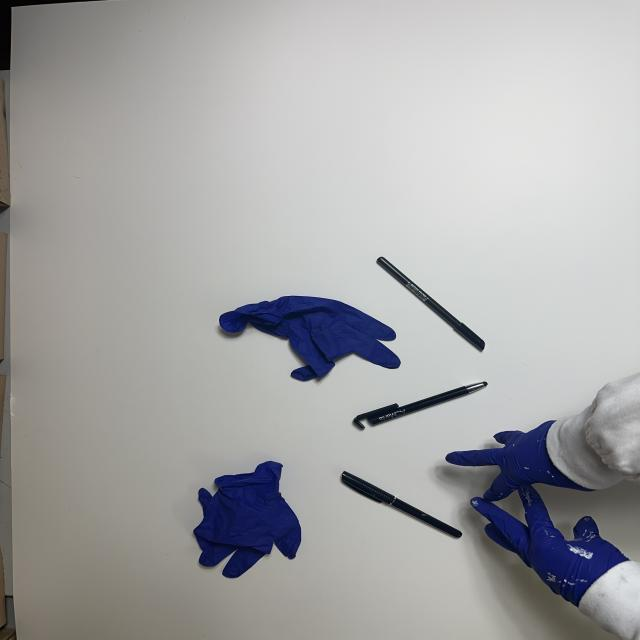gloves_contaminated: (471, 486, 628, 606), (446, 421, 594, 501)
